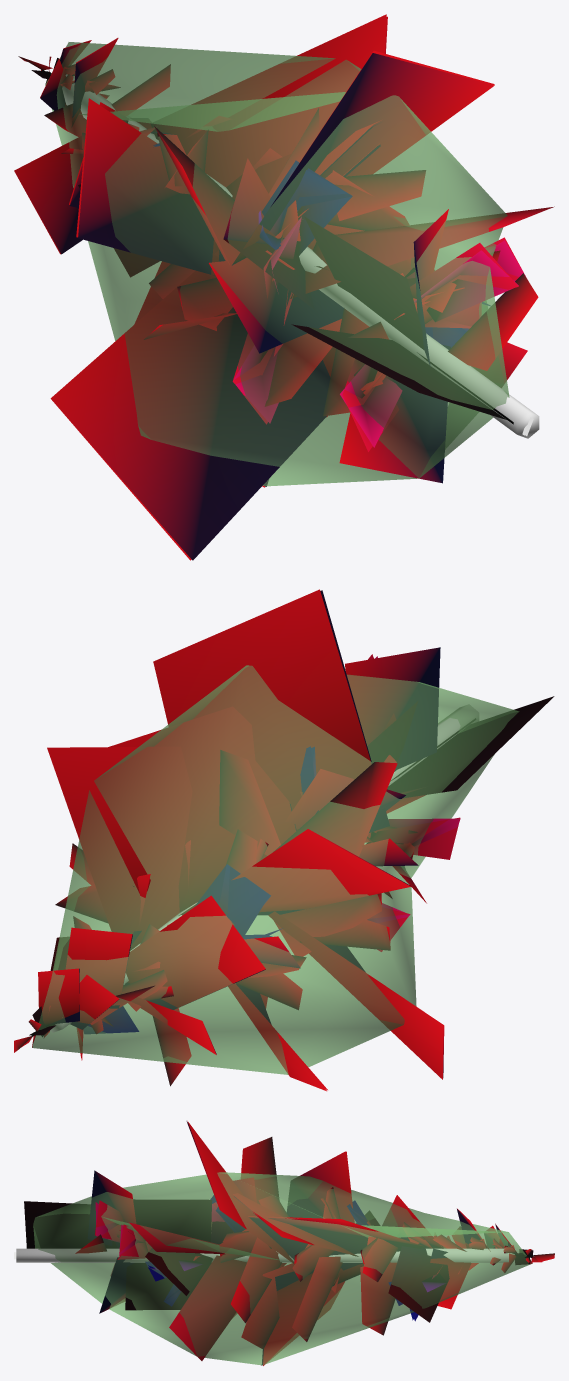
File: tree_douglasfir_dead.dae
The picture shows the model from 3 angles, top to bottom: view 1: azimuth 30°, elevation 25°; view 2: azimuth 150°, elevation 25°; view 3: azimuth 270°, elevation 25°; orthographic projection. The views are drawn at different scales.
Parts seen in each view (by area): view 1: Colmesh_dead-1, tree_douglasfir_dead_a700, tree_douglasfir_dead_a400; view 2: tree_douglasfir_dead_a400, Colmesh_dead-1, tree_douglasfir_dead_a700; view 3: Colmesh_dead-1, tree_douglasfir_dead_a400, tree_douglasfir_dead_a700.
Boxes of the visible parts, x1,y1,x2,y2 form: Colmesh_dead-1: (45, 42, 539, 486); tree_douglasfir_dead_a700: (14, 16, 533, 560); tree_douglasfir_dead_a400: (14, 14, 554, 560); tree_douglasfir_dead_a400: (14, 589, 554, 1091); Colmesh_dead-1: (32, 665, 519, 1074); tree_douglasfir_dead_a700: (31, 590, 460, 1090); Colmesh_dead-1: (16, 1172, 531, 1365); tree_douglasfir_dead_a400: (24, 1121, 554, 1365); tree_douglasfir_dead_a700: (14, 1121, 542, 1365).
Size of the model in its own units: 6.11 by 13.81 by 7.34.
